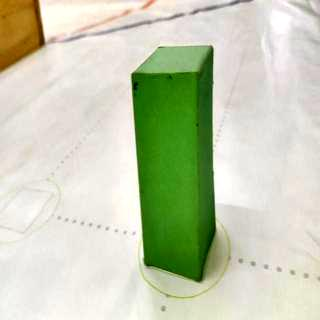greenbox: (130, 44, 214, 284)
